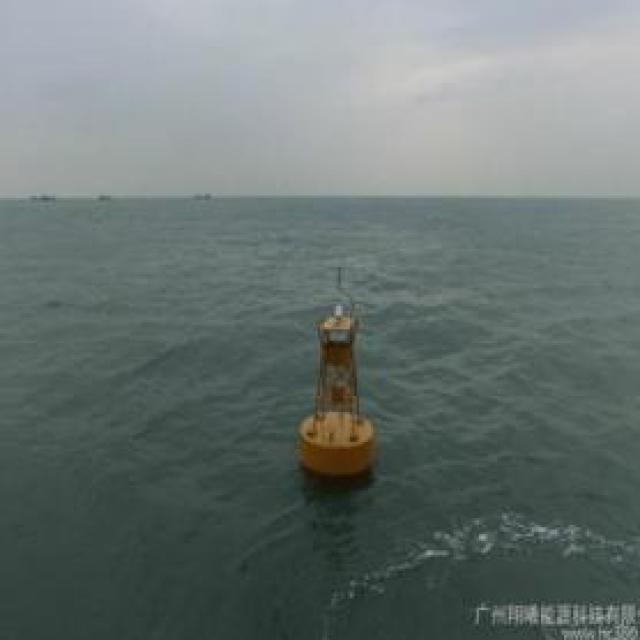buoy: (291, 289, 375, 480)
